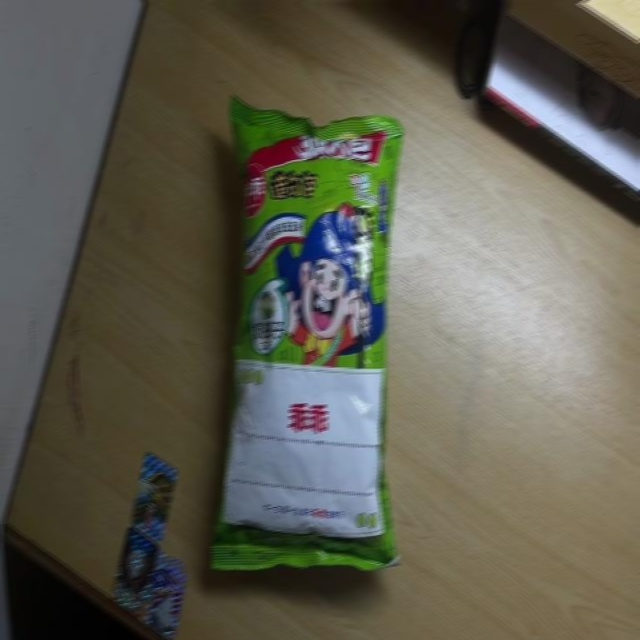Good-Luck: (210, 88, 406, 568)
